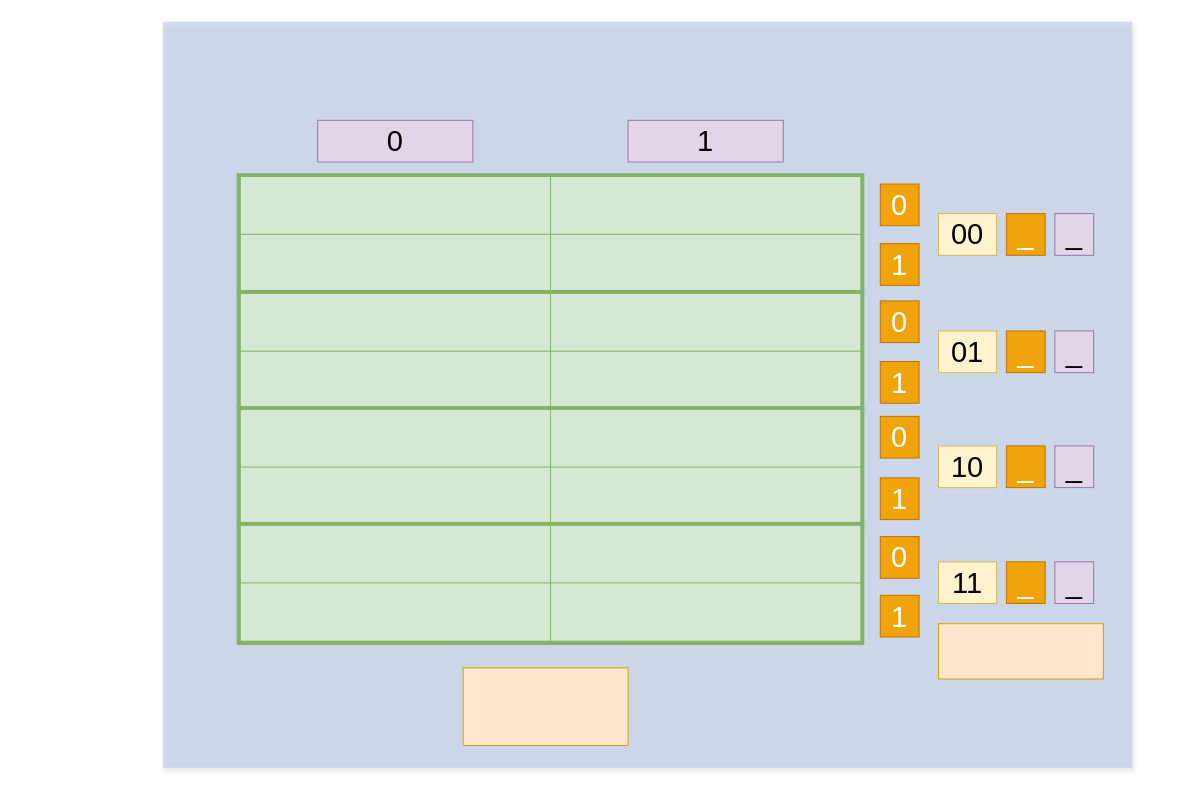
The diagram is 1187 pixels wide and 792 high, and some of its shapes have lost their labels. The centre of each missing label's shape, as x and y in pixels:
Cache: (545,706)
cache address: (1020,651)
